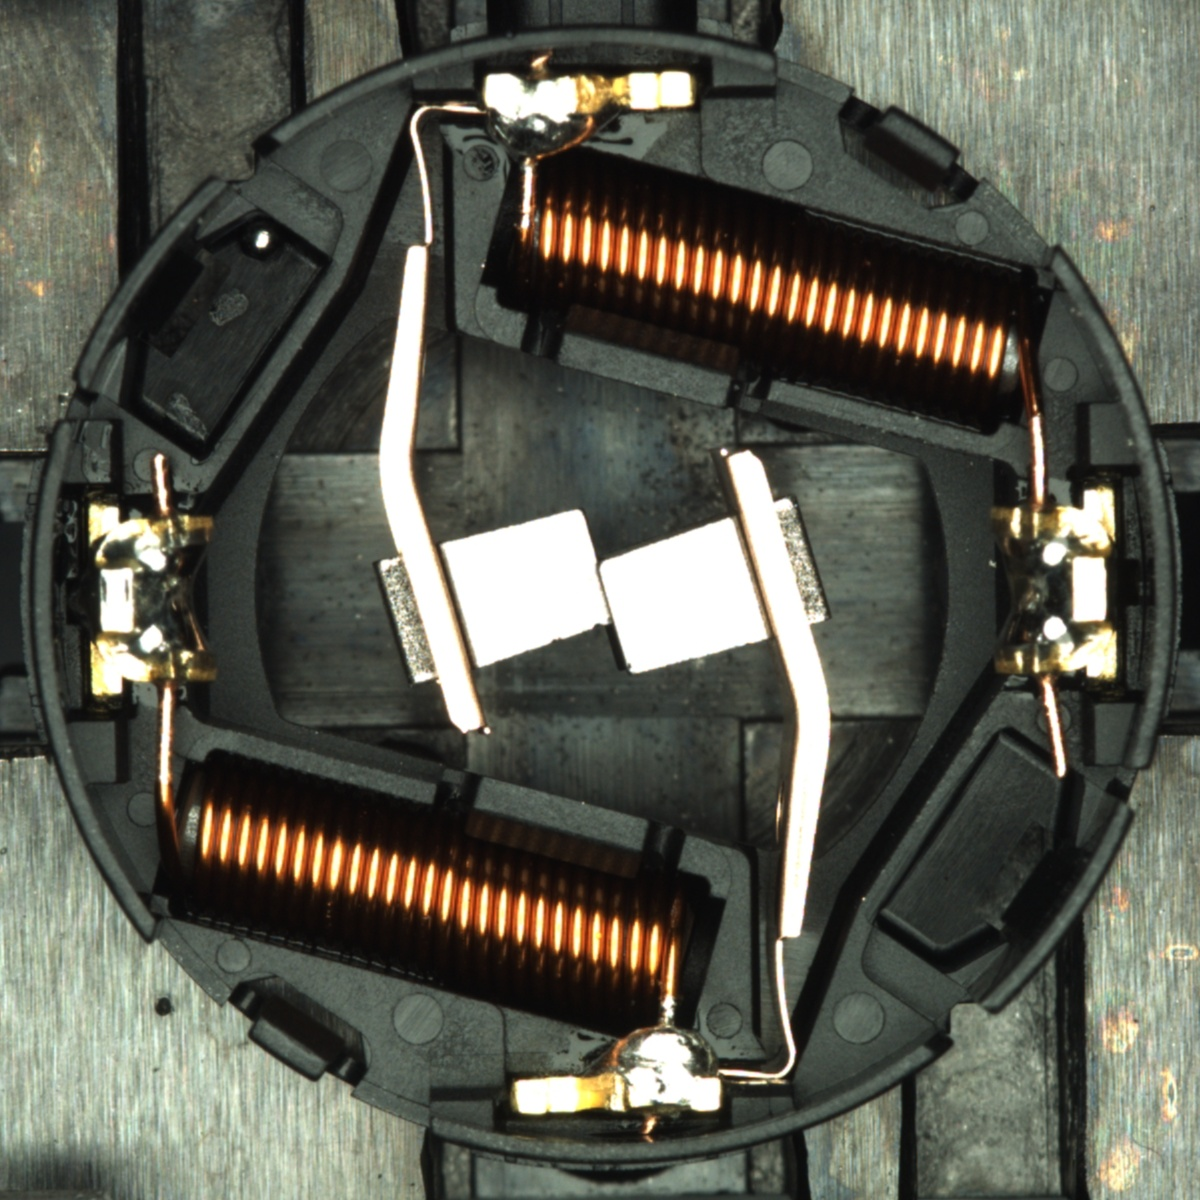1: (714, 928, 944, 1153), (256, 31, 485, 255)
2: (256, 928, 485, 1153), (714, 31, 944, 255)
3: (27, 255, 256, 480), (944, 704, 1173, 928)
4: (256, 255, 485, 480), (714, 704, 944, 928)
5: (485, 816, 714, 1041), (485, 143, 714, 367)
6: (714, 255, 944, 480), (256, 704, 485, 928)
7: (944, 255, 1173, 480), (27, 704, 256, 928)
bui_chi: (245, 224, 278, 257)
cacbon: (400, 499, 799, 685)
chau_dien: (82, 498, 221, 698), (983, 488, 1123, 686)
hat_chi: (245, 222, 278, 256)
tay_choi: (511, 1019, 724, 1118), (481, 68, 699, 164)
thanh_de: (956, 787, 1142, 1031), (60, 166, 243, 402)
